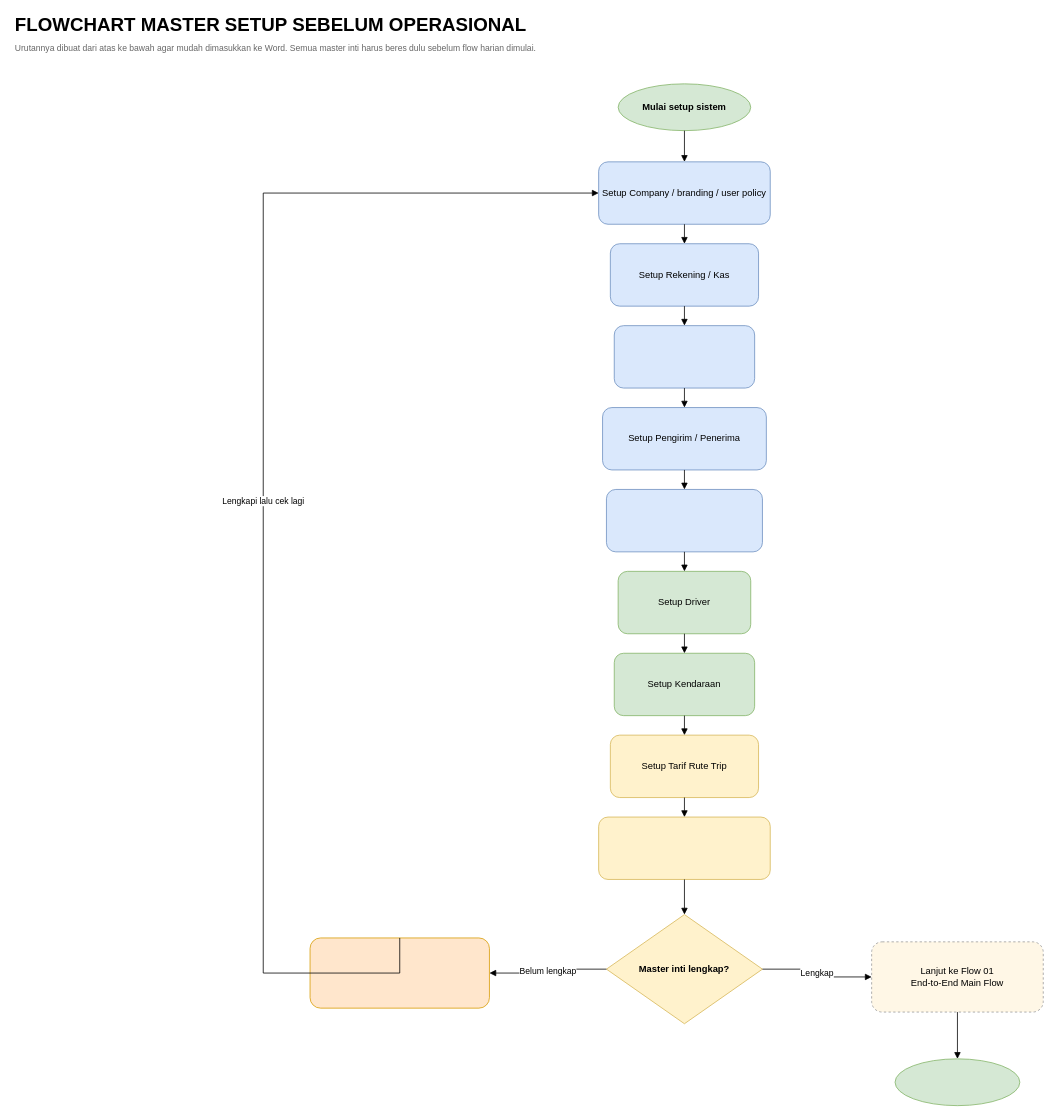
Some shapes in this 1057 by 1119 pixel diagram are drawn without their labels. The centre of each missing label's shape, as x and y in pixels:
"Lengkapi master yang belum siap" goes at pixel 399 972.
"Setup Barang Customer" goes at pixel 684 520.
"Setup Customer" goes at pixel 684 356.
"Setup Kategori Expense" goes at pixel 684 847.
"Siap operasional" goes at pixel 957 1082.
